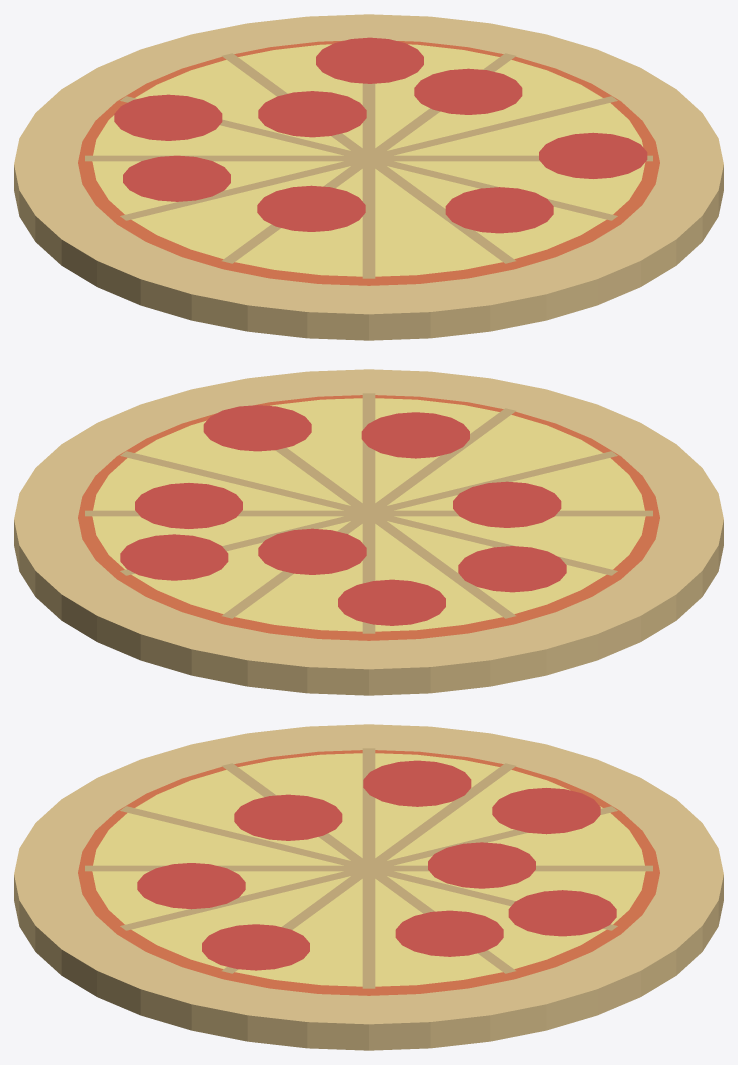
The model's file is Pizza.fbx.
3 views of the same model, one above another, from view 1: azimuth 30°, elevation 25°; view 2: azimuth 150°, elevation 25°; view 3: azimuth 270°, elevation 25° (orthographic).
Parts seen in each view (by area): view 1: Disc, Cheese, Sauce, Pepp2, Pepp1, Pepp3, Pepp0, Pepp4, Pepp5, Pepp7, Pepp6, Slice0 (+5 smaller); view 2: Disc, Cheese, Sauce, Pepp7, Pepp2, Pepp4, Pepp6, Pepp5, Pepp3, Pepp1, Pepp0, Slice0 (+5 smaller); view 3: Disc, Cheese, Sauce, Pepp0, Pepp4, Pepp6, Pepp7, Pepp5, Pepp1, Pepp2, Pepp3, Slice0 (+5 smaller).
Part boxes in pixels (box(x1,y1,x2,y2)): Disc: box(14, 14, 723, 340); Cheese: box(92, 44, 645, 276); Sauce: box(78, 40, 659, 285); Pepp2: box(445, 187, 553, 233); Pepp1: box(114, 94, 222, 140); Pepp3: box(257, 185, 365, 231); Pepp0: box(414, 68, 522, 114); Pepp4: box(539, 132, 647, 178); Pepp5: box(258, 91, 366, 137); Pepp7: box(316, 37, 423, 83); Pepp6: box(123, 155, 230, 201); Slice0: box(120, 96, 617, 220); Disc: box(14, 369, 723, 695); Cheese: box(92, 398, 645, 631); Sauce: box(78, 395, 659, 640); Pepp7: box(120, 534, 228, 580); Pepp2: box(361, 412, 469, 458); Pepp4: box(203, 405, 311, 451); Pepp6: box(458, 546, 566, 592); Pepp5: box(258, 528, 366, 574); Pepp3: box(453, 481, 561, 527); Pepp1: box(338, 579, 445, 625); Pepp0: box(135, 483, 242, 528); Slice0: box(120, 451, 617, 575); Disc: box(14, 724, 723, 1050); Cheese: box(92, 753, 645, 986); Sauce: box(78, 750, 659, 995); Pepp0: box(395, 910, 503, 956); Pepp4: box(202, 924, 309, 970); Pepp6: box(363, 760, 471, 806); Pepp7: box(508, 890, 616, 936); Pepp5: box(428, 842, 535, 888); Pepp1: box(492, 788, 600, 834); Pepp2: box(137, 863, 245, 909); Pepp3: box(234, 794, 342, 840); Slice0: box(362, 748, 375, 988).
Bounding box in the file's own units: 44 × 2.4 × 44.
